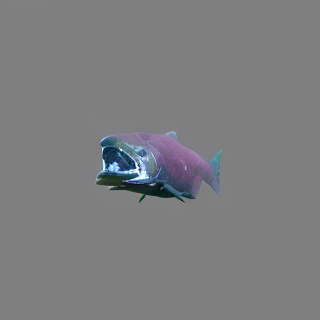Chinook salmon: (94, 125, 225, 209)
